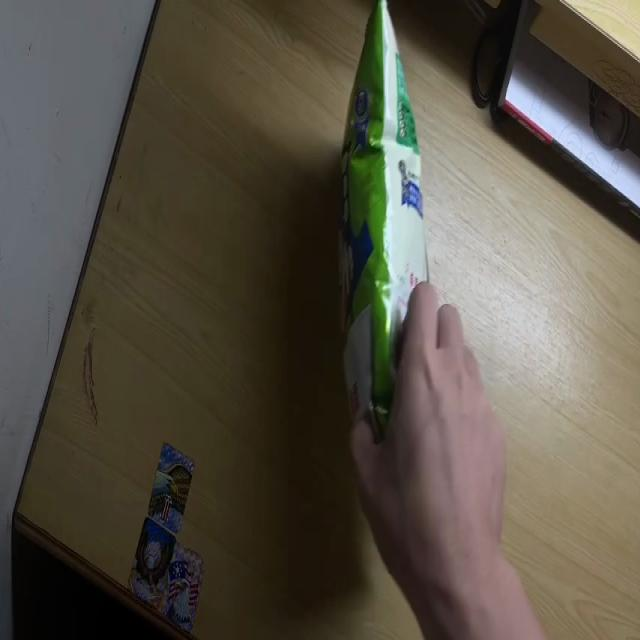Good-Luck: (335, 0, 439, 536)
